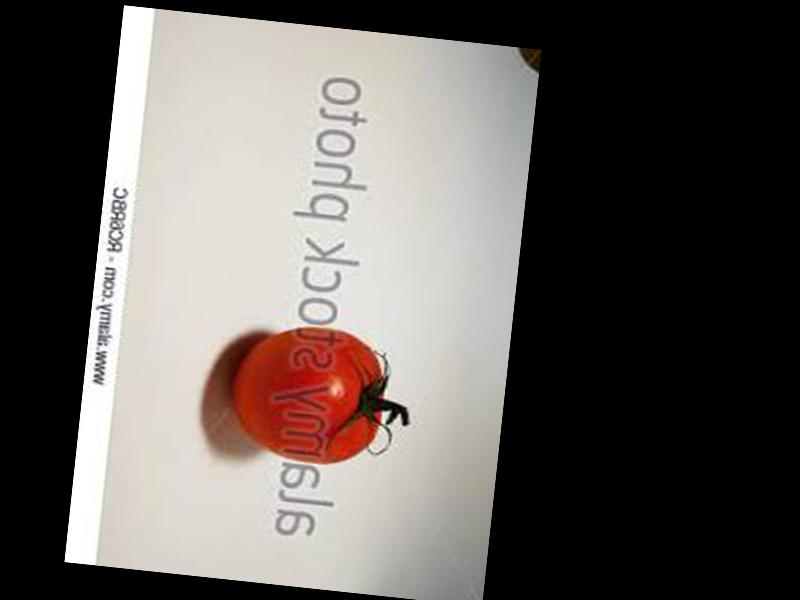Tomato: (227, 318, 392, 470)
